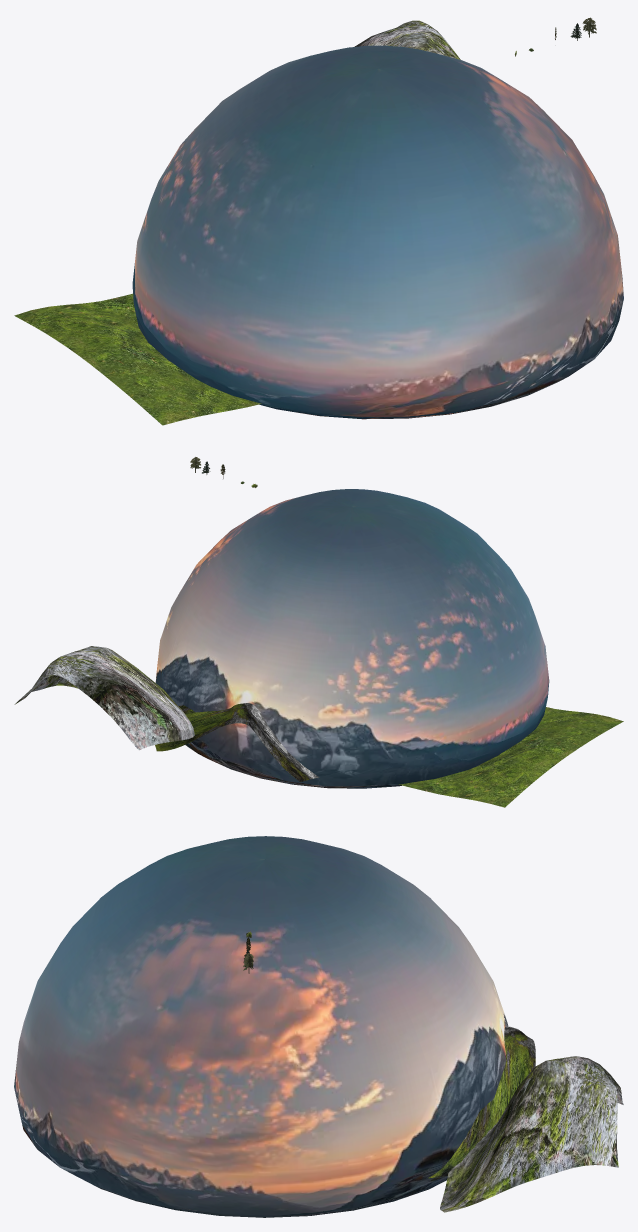
File: forest.glb
3 views of the same model, one above another, from view 1: azimuth 30°, elevation 25°; view 2: azimuth 150°, elevation 25°; view 3: azimuth 270°, elevation 25° (orthographic). The views are drawn at different scales.
Parts seen in each view (by area): view 1: Sphere_Material.011_0, Plane_Material.001_0, Plane.009_Material.009_0; view 2: Sphere_Material.011_0, Plane.009_Material.009_0, Plane_Material.001_0, Plane.007_Material.008_0; view 3: Sphere_Material.011_0, Plane.009_Material.009_0, Plane.007_Material.008_0.
Boxes of the visible parts, box(x1,y1,x2,y2) form: Sphere_Material.011_0: box(132, 45, 623, 419); Plane_Material.001_0: box(14, 293, 261, 425); Plane.009_Material.009_0: box(354, 20, 460, 59); Sphere_Material.011_0: box(155, 489, 549, 788); Plane.009_Material.009_0: box(14, 646, 194, 750); Plane_Material.001_0: box(398, 707, 623, 807); Plane.007_Material.008_0: box(155, 703, 319, 782); Sphere_Material.011_0: box(14, 836, 508, 1217); Plane.009_Material.009_0: box(440, 1056, 623, 1212); Plane.007_Material.008_0: box(428, 1026, 535, 1178).
Size of the model in its own units: 95.92 by 49.54 by 91.41.
Materials: 10 (10 with a texture image).
